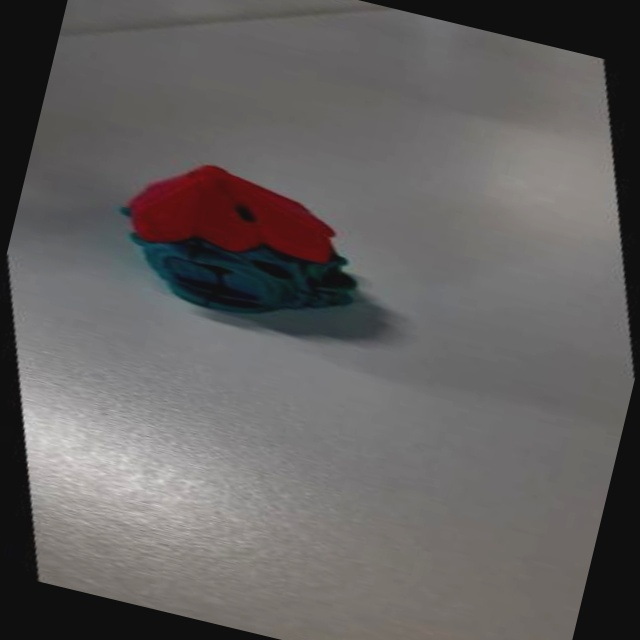House: (76, 121, 421, 358)
